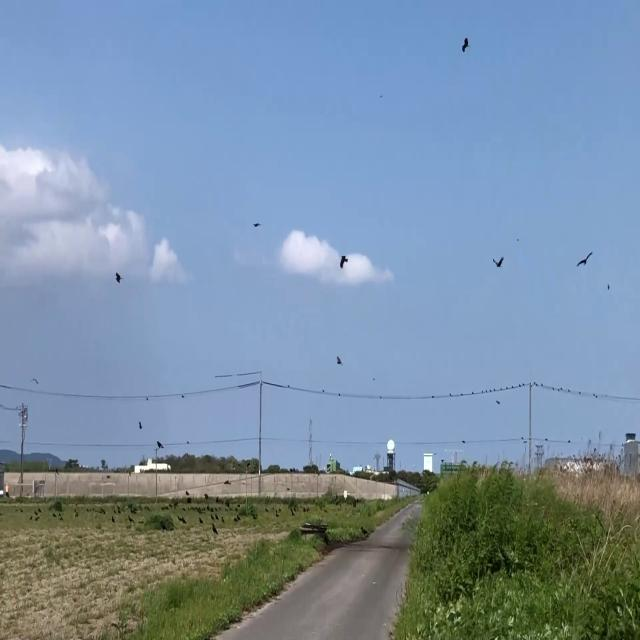bird: (578, 245, 592, 274), (462, 30, 469, 60), (494, 252, 504, 272), (340, 248, 347, 273), (115, 266, 122, 288), (156, 436, 164, 454), (33, 372, 38, 390), (212, 517, 216, 534), (496, 394, 500, 408), (112, 511, 115, 525), (199, 512, 202, 526)
